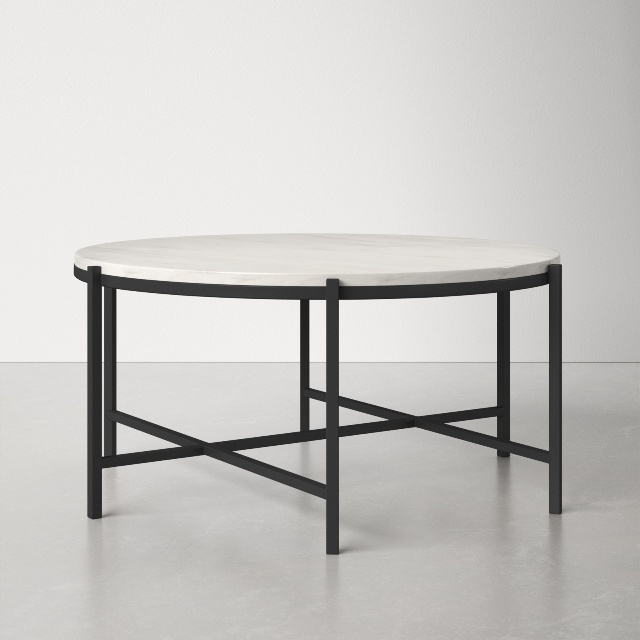obstacle: (74, 234, 562, 554)
